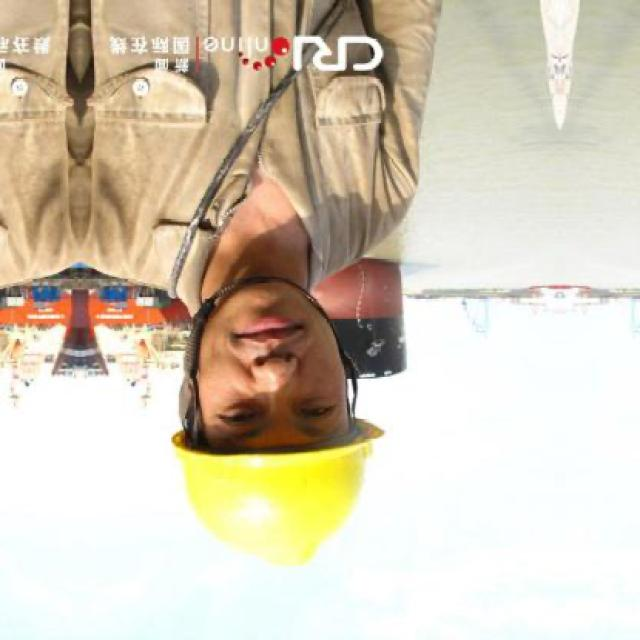safetyhelmet: (160, 389, 383, 570)
